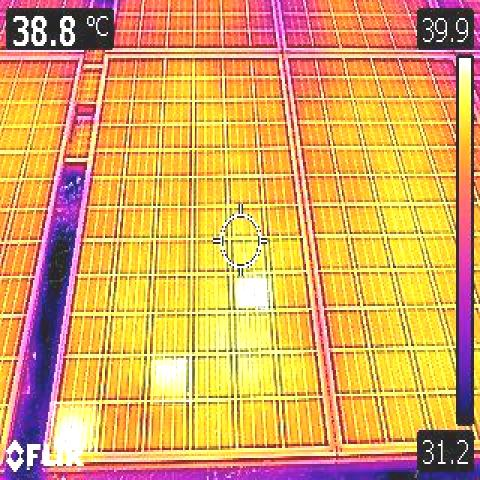fault: (51, 401, 98, 453), (151, 352, 193, 405), (236, 279, 269, 309)
